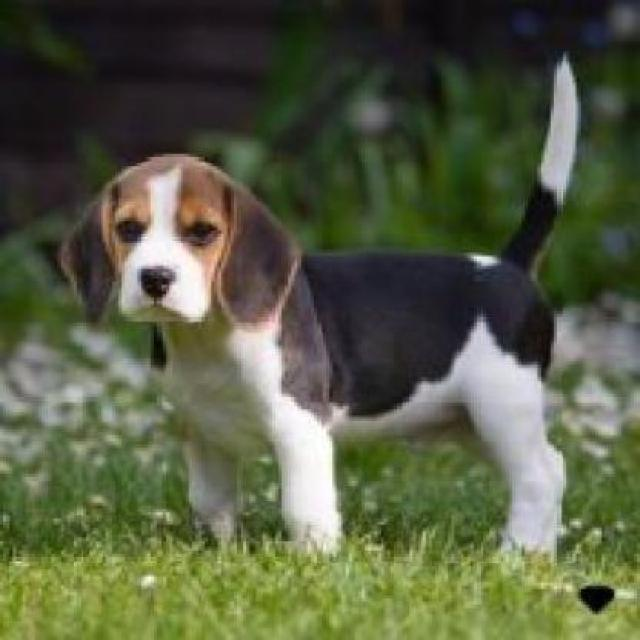Dog: (49, 48, 578, 564)
